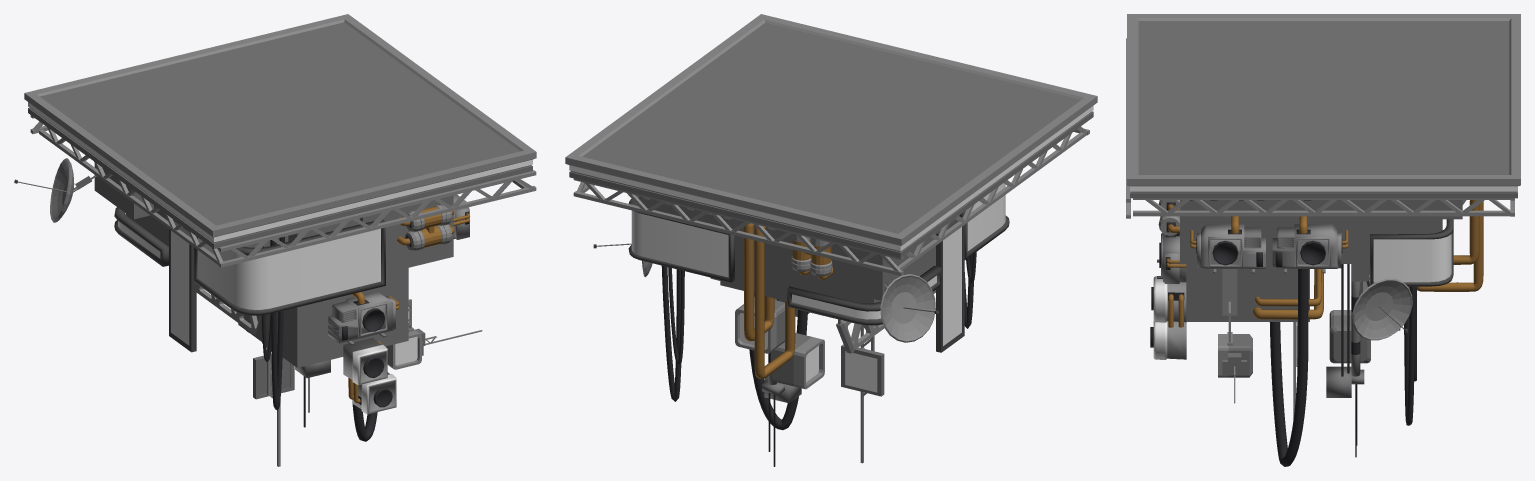
Rendered from quaternius-cyberpunk-platform-4-x-4.glb.
3 views of the same model, side by side, from view 1: azimuth 30°, elevation 25°; view 2: azimuth 150°, elevation 25°; view 3: azimuth 270°, elevation 25° (orthographic). The views are drawn at different scales.
Visible parts, largest first — view 1: Platform_4x4; view 2: Platform_4x4; view 3: Platform_4x4.
Part boxes in pixels (x1,y1,x2,y2): Platform_4x4: (14, 14, 536, 466); Platform_4x4: (565, 14, 1097, 466); Platform_4x4: (1126, 14, 1520, 466).
Bounding box in the file's own units: 4.47 × 3.76 × 3.9.
1 material, 1 textured.
